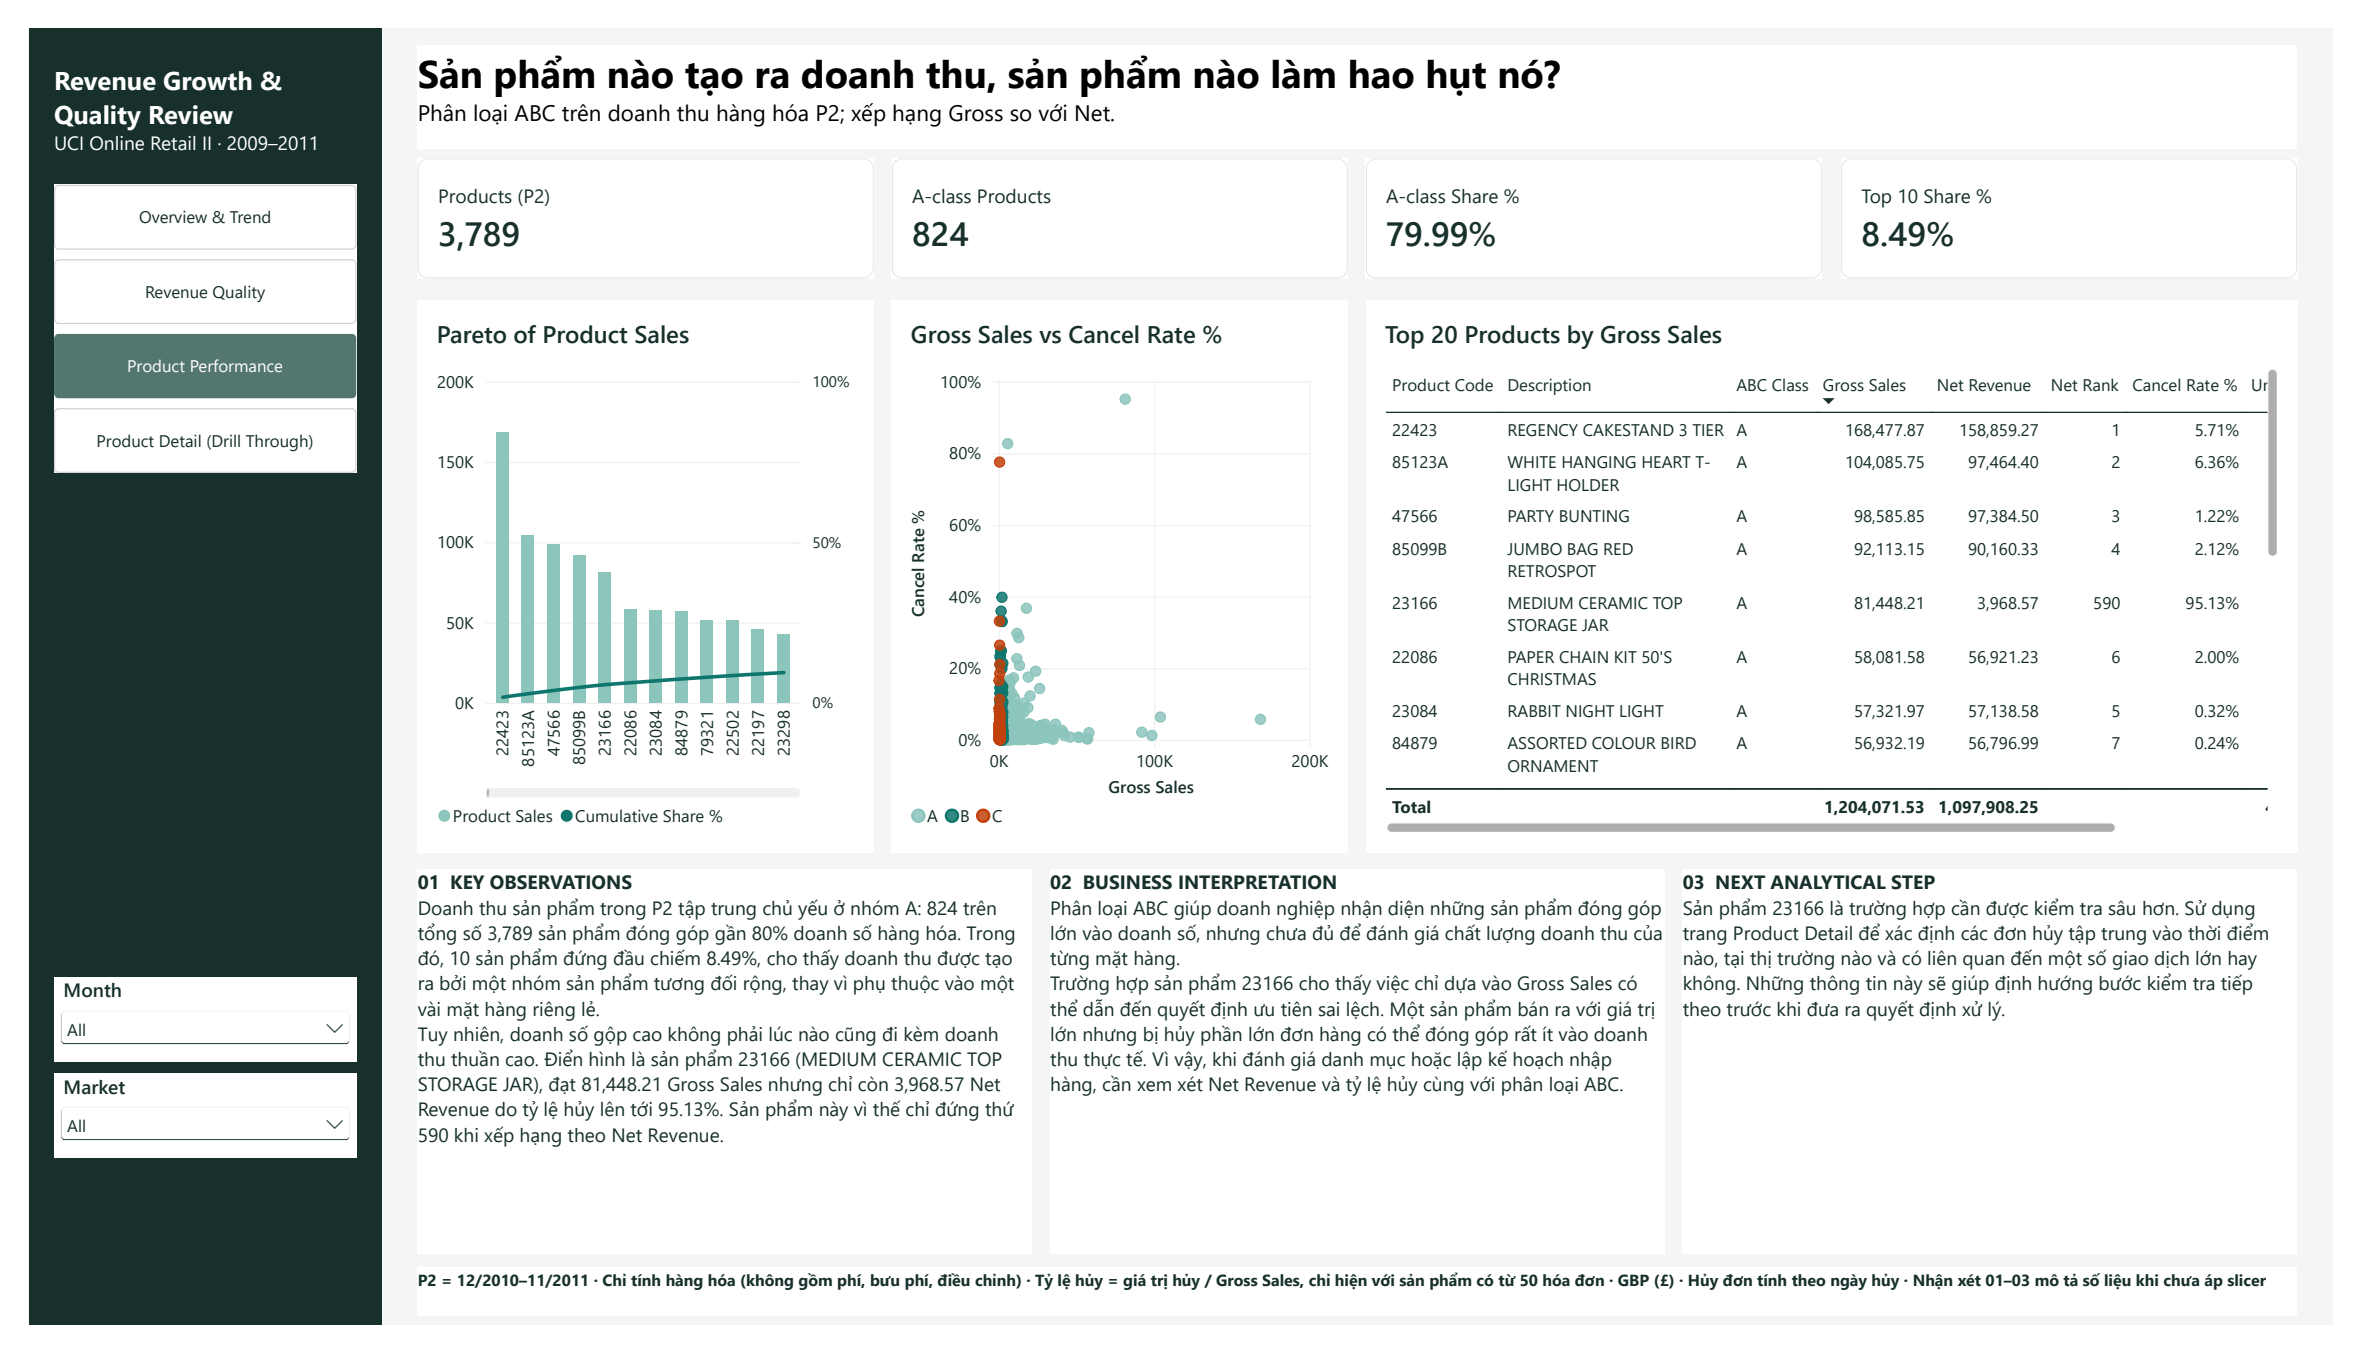

Layout of this report page (visuals, bound fields, positions):
{"tool":"powerbi","page":{"name":"Product Performance","canvas":[1920,1080],"ordinal":2},"visuals":[{"type":"shape","box":[0,0,294,1080],"z":0},{"type":"cardVisual","fields":{"Data":["Count(core dim_product.product_code)"]},"box":[324,108,380,100],"z":1000},{"type":"cardVisual","fields":{"Data":["Count(core dim_product.product_code)"]},"box":[719,108,380,100],"z":2000},{"type":"cardVisual","fields":{"Data":["_Measures.Product Share %"]},"box":[1114,108,380,100],"z":3000},{"type":"cardVisual","fields":{"Data":["_Measures.Product Share %"]},"box":[1510,108,380,100],"z":4000},{"type":"lineClusteredColumnComboChart","title":"Pareto of Product Sales","fields":{"Category":["core dim_product.product_code"],"Y":["_Measures.Product Sales"],"Y2":["_Measures.Cumulative Share %"]},"box":[324,226,380,460],"z":5000},{"type":"tableEx","title":"Top 20 Products by Gross Sales","fields":{"Values":["core dim_product.product_code","core dim_product.description","core dim_product.abc_class","_Measures.Gross Sales","_Measures.Net Revenue","_Measures.Net Revenue Rank","_Measures.Product Cancellation Rate %","_Measures.Units Sold","_Measures.Sales Invoices"]},"box":[1114,226,776,460],"z":6000},{"type":"scatterChart","title":"Gross Sales vs Cancel Rate %","fields":{"Category":["core dim_product.product_code"],"Series":["core dim_product.abc_class"],"X":["_Measures.Gross Sales"],"Y":["_Measures.Product Cancellation Rate %"]},"box":[719,226,380,460],"z":7000},{"type":"slicer","fields":{"Values":["core dim_date.month_name"]},"box":[21,790,252,70],"z":8000},{"type":"slicer","fields":{"Values":["core fact_invoice_line.Market"]},"box":[21,870,252,70],"z":9000},{"type":"textbox","box":[324,14,1566,86],"z":10000},{"type":"pageNavigator","box":[21,130,252,240],"z":11000},{"type":"textbox","box":[324,700,512,320],"z":12000},{"type":"textbox","box":[851,700,512,320],"z":13000},{"type":"textbox","box":[1378,700,512,320],"z":14000},{"type":"textbox","box":[324,1032,1566,40],"z":15000},{"type":"textbox","box":[21,28,252,80],"z":16000}]}

Visuals, with their boxes on the page's 1920x1080 design canvas (x1, y1, x2, y2). These are canvas units, not pixel positions in the 2362x1354 screenshot, which may show the page scaled, cropped or inside an application window:
shape: {"x1": 0, "y1": 0, "x2": 294, "y2": 1080}
cardVisual - Count(core dim_product.product_code): {"x1": 324, "y1": 108, "x2": 704, "y2": 208}
cardVisual - Count(core dim_product.product_code): {"x1": 719, "y1": 108, "x2": 1099, "y2": 208}
cardVisual - _Measures.Product Share %: {"x1": 1114, "y1": 108, "x2": 1494, "y2": 208}
cardVisual - _Measures.Product Share %: {"x1": 1510, "y1": 108, "x2": 1890, "y2": 208}
"Pareto of Product Sales" lineClusteredColumnComboChart: {"x1": 324, "y1": 226, "x2": 704, "y2": 686}
"Top 20 Products by Gross Sales" tableEx: {"x1": 1114, "y1": 226, "x2": 1890, "y2": 686}
"Gross Sales vs Cancel Rate %" scatterChart: {"x1": 719, "y1": 226, "x2": 1099, "y2": 686}
slicer - core dim_date.month_name: {"x1": 21, "y1": 790, "x2": 273, "y2": 860}
slicer - core fact_invoice_line.Market: {"x1": 21, "y1": 870, "x2": 273, "y2": 940}
textbox: {"x1": 324, "y1": 14, "x2": 1890, "y2": 100}
pageNavigator: {"x1": 21, "y1": 130, "x2": 273, "y2": 370}
textbox: {"x1": 324, "y1": 700, "x2": 836, "y2": 1020}
textbox: {"x1": 851, "y1": 700, "x2": 1363, "y2": 1020}
textbox: {"x1": 1378, "y1": 700, "x2": 1890, "y2": 1020}
textbox: {"x1": 324, "y1": 1032, "x2": 1890, "y2": 1072}
textbox: {"x1": 21, "y1": 28, "x2": 273, "y2": 108}
